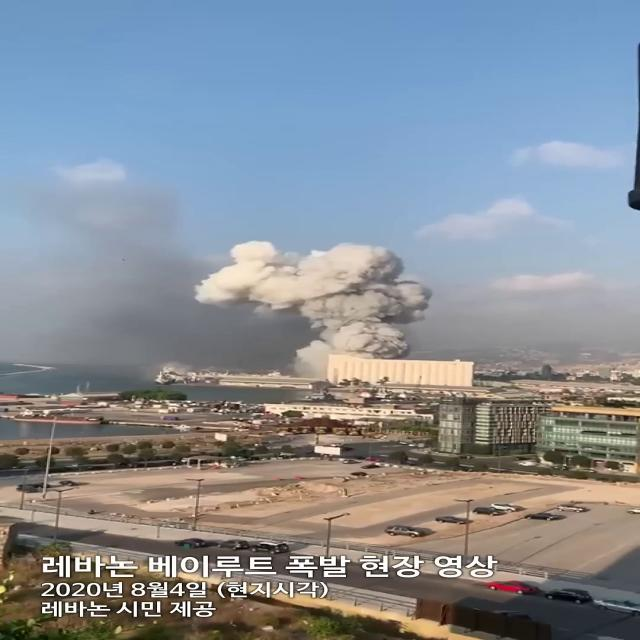explosion: (158, 212, 452, 388)
